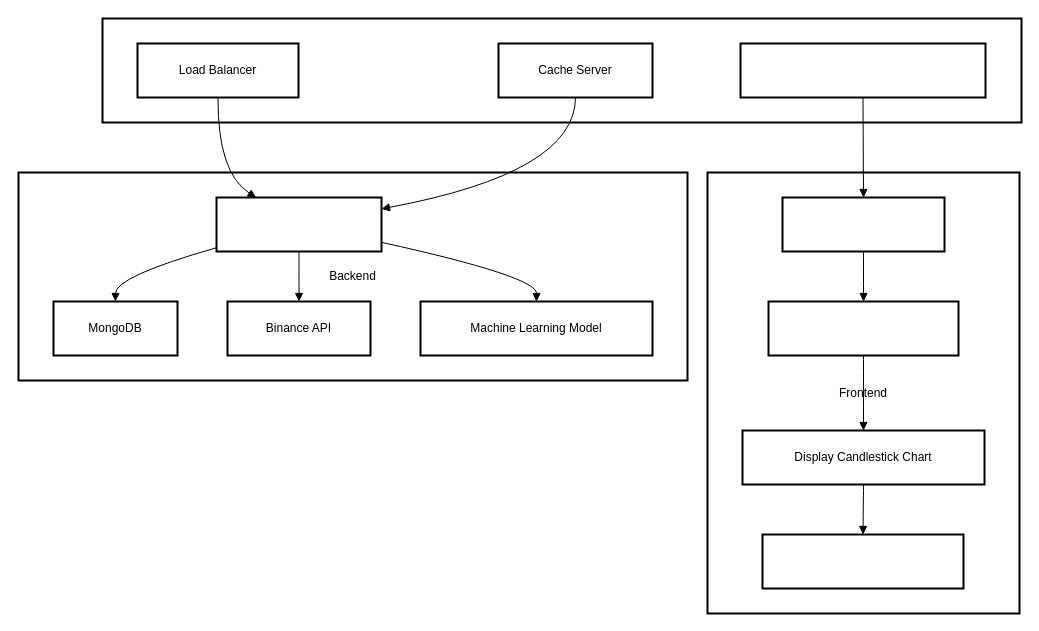
The diagram is 1039 pixels wide and 631 high, and some of its shapes have lost their labels. Here are the shapes that lost their labels. From the top down, the centre of each, then its label:
At pixel 862 70: "Content Delivery Network".
At pixel 298 224: "Node.js Server".
At pixel 863 224: "User Interface".
At pixel 863 328: "Query Binance API".
At pixel 862 561: "Perform Predictions".
